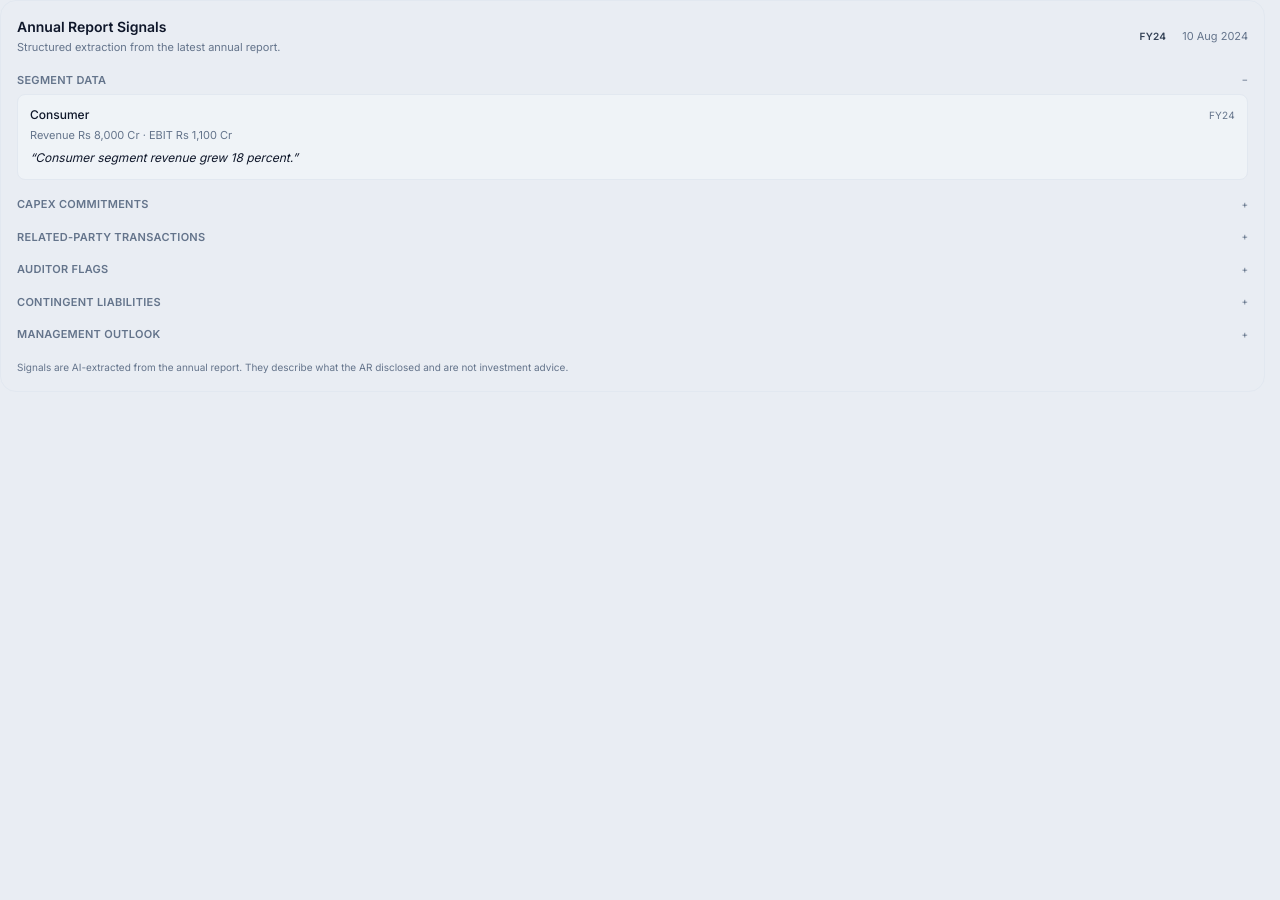
Test: ARSignalsPanel — original six sub-panels › renders all six section headers when signals are present
Expected: the heading "Annual Report Signals" is shown, [17, 18, 166, 35]
Expected: the text "FY24" next to "10 Aug 2024" is shown, [1140, 30, 1166, 42]
Click the button "Capex commitments +". click: click(83, 204)
box: [17, 196, 1248, 212]
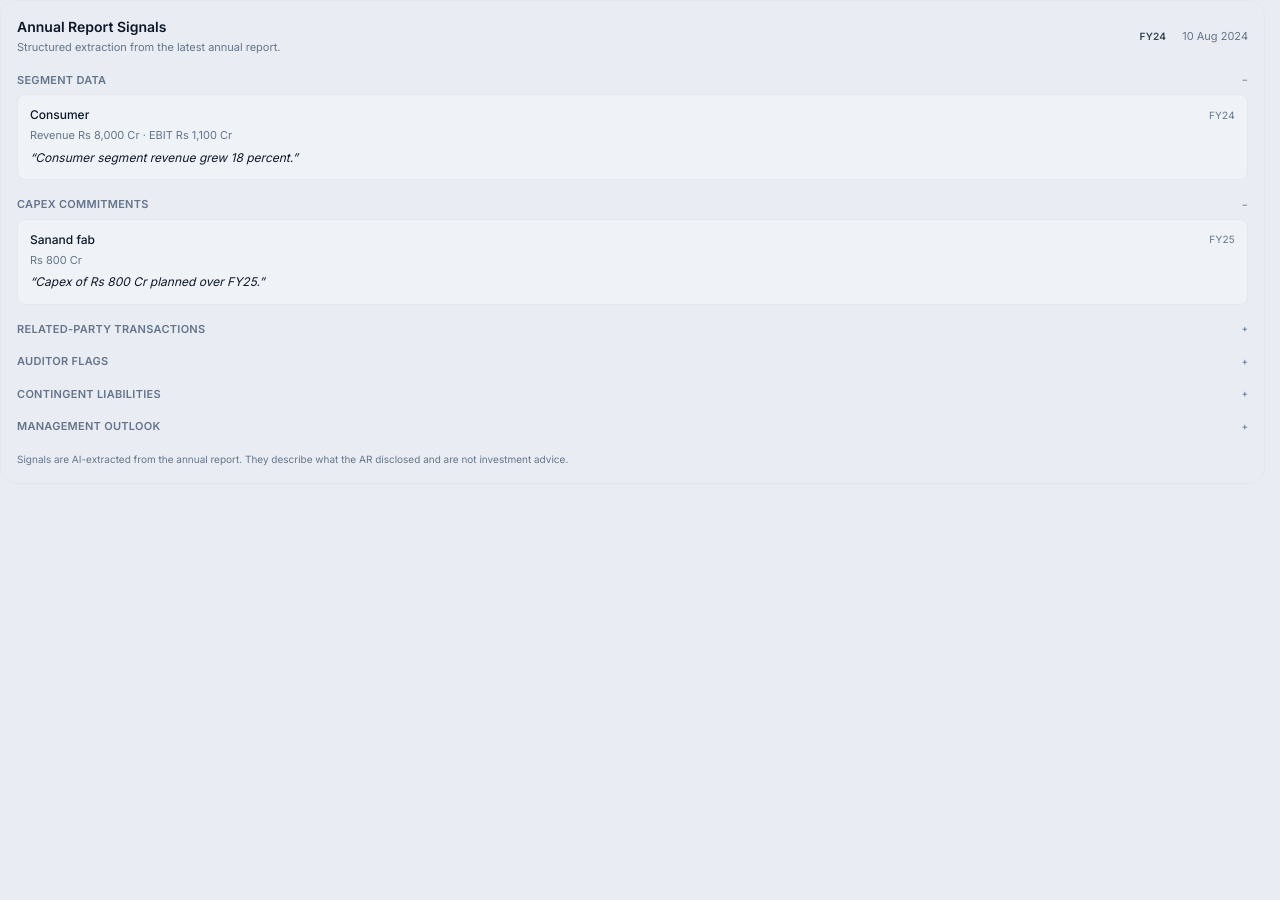
Result: the element with test id "ar-section-capex" shows "Rs 800 Cr" at [30, 252, 82, 266]
Result: the element with test id "ar-section-capex" shows "Sanand fab" at [30, 232, 95, 246]
Click the button "Related-party transactions +". click: click(111, 328)
box: [17, 320, 1248, 337]
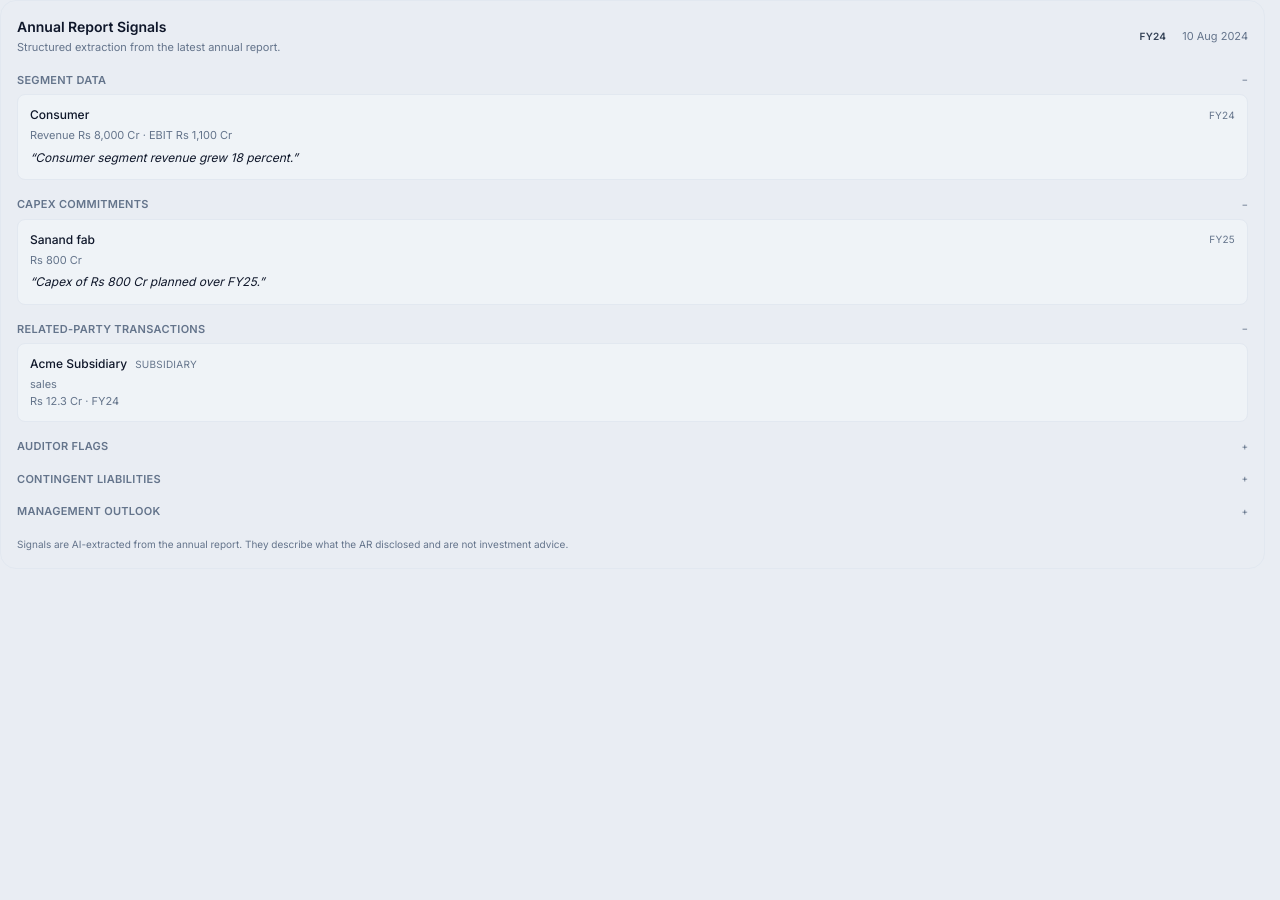
Result: the text "Acme Subsidiary" is shown at [30, 356, 127, 372]
Result: the text "subsidiary" is shown at [135, 356, 197, 372]
Click the button "Auditor flags +". click: click(63, 446)
box: [17, 438, 1248, 454]
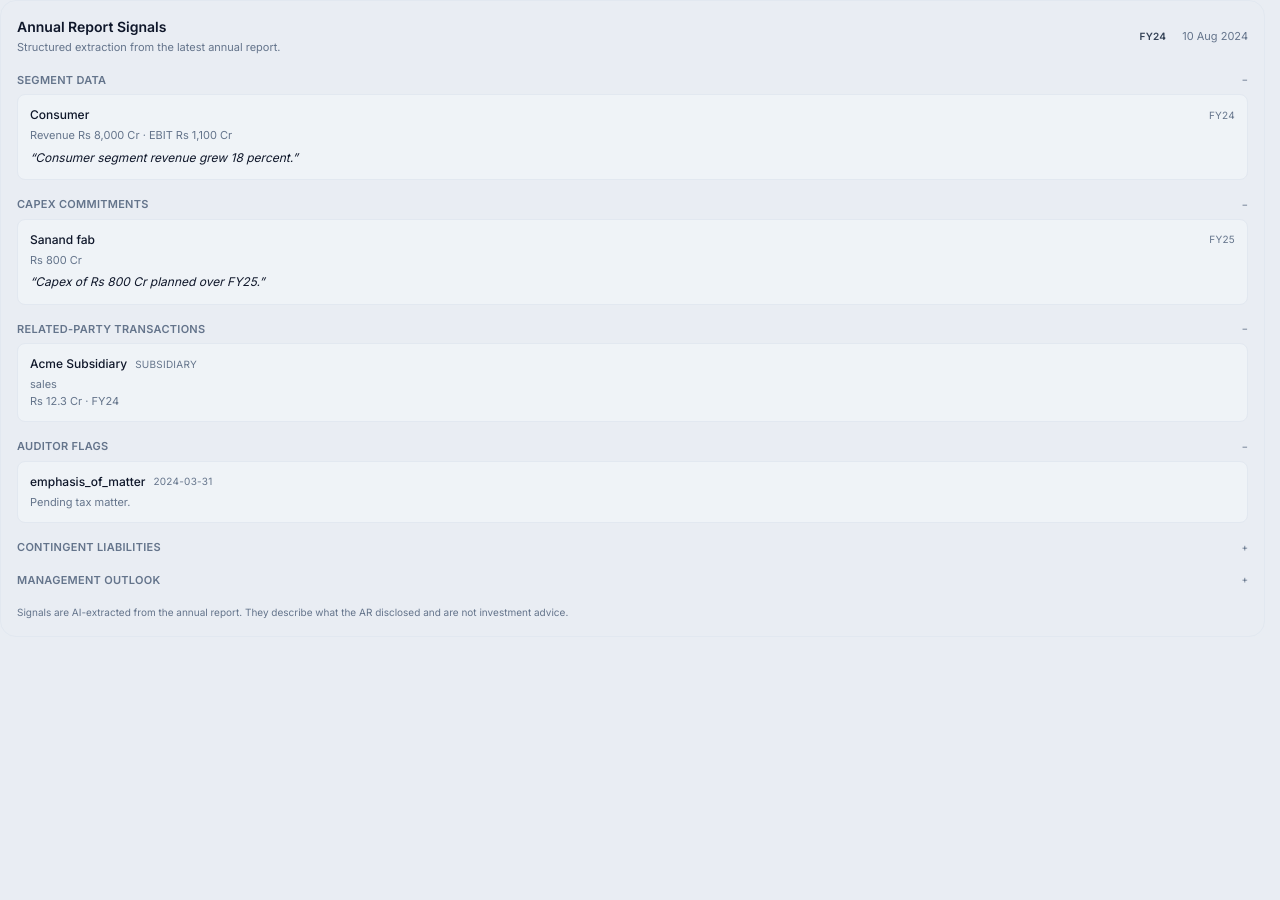
Result: the text "emphasis_of_matter" is shown at [30, 474, 145, 490]
Result: the text "Pending tax matter." is shown at [30, 494, 130, 508]
Click the button "Contingent liabilities +". click: click(89, 547)
box: [17, 539, 1248, 556]
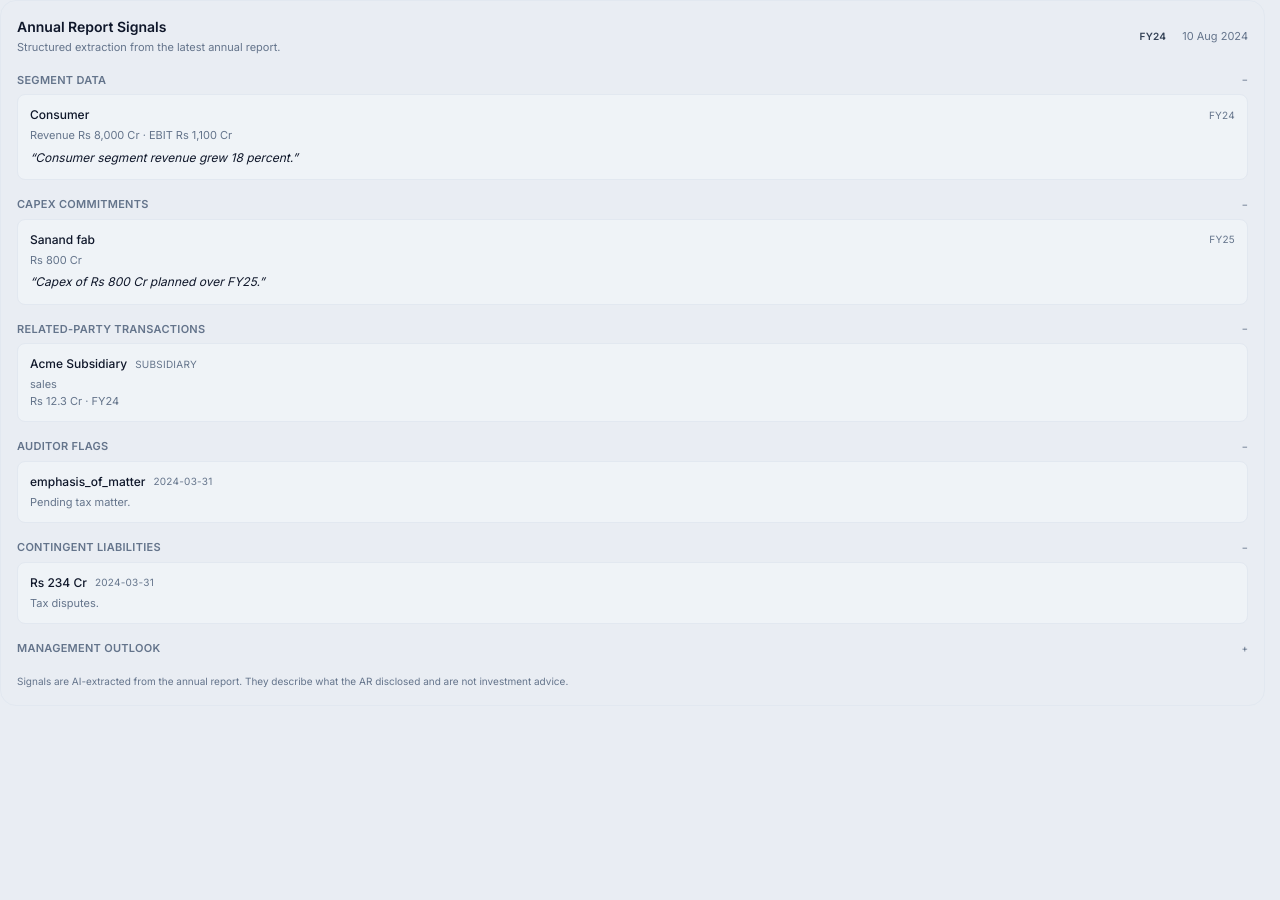
Result: the element with test id "ar-section-liabilities" shows "Rs 234 Cr" at [30, 574, 87, 590]
Result: the element with test id "ar-section-liabilities" shows "Tax disputes" at [30, 596, 99, 610]
Click the button "Management outlook +". click: click(89, 648)
box: [17, 640, 1248, 656]
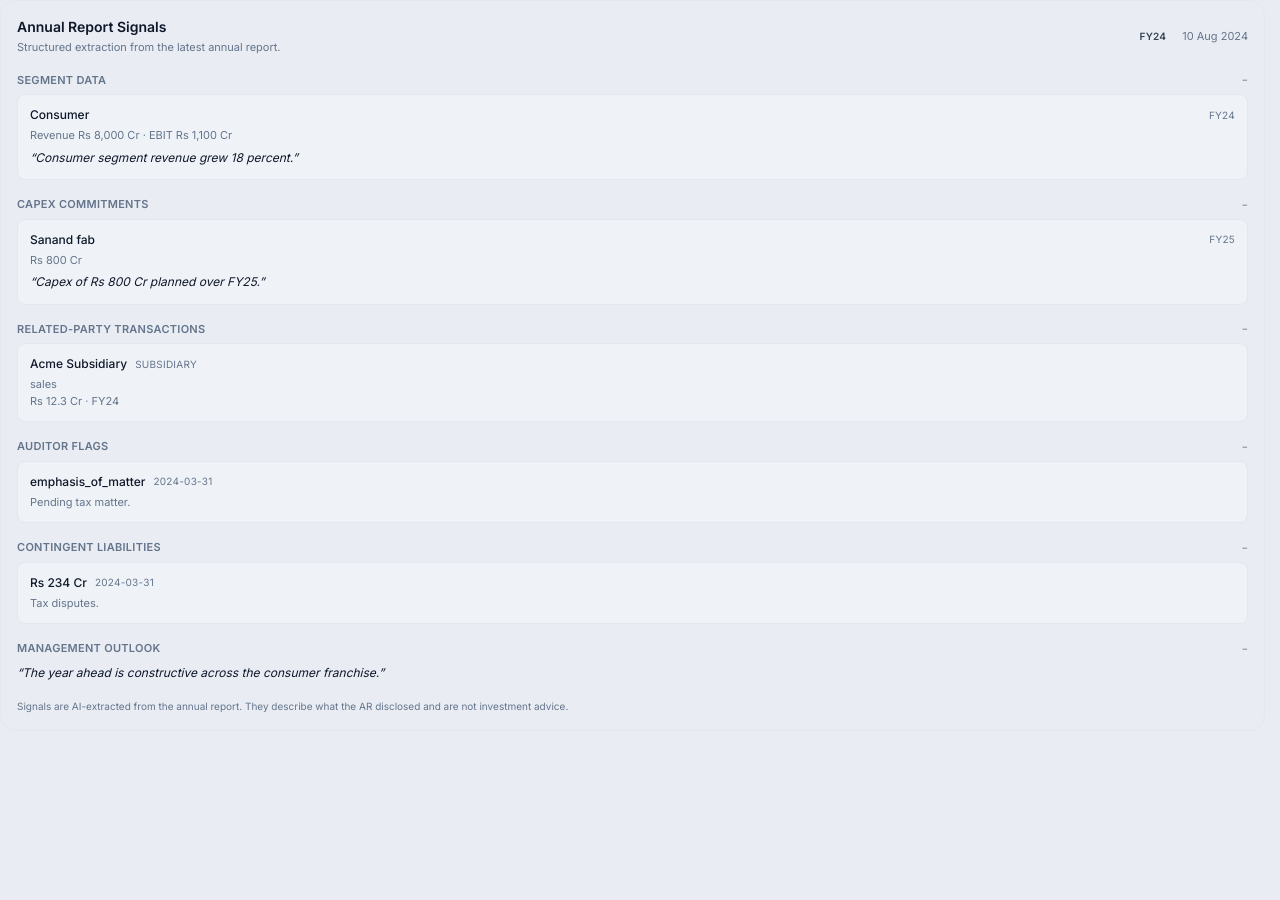
Result: the text "The year ahead is constructive" is shown at [22, 664, 379, 680]
